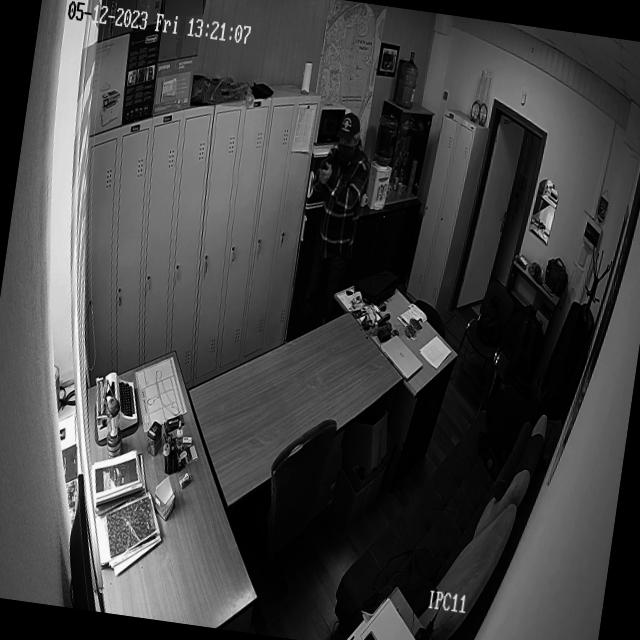gun: (308, 156, 334, 167)
person with a gun: (293, 102, 382, 304)
